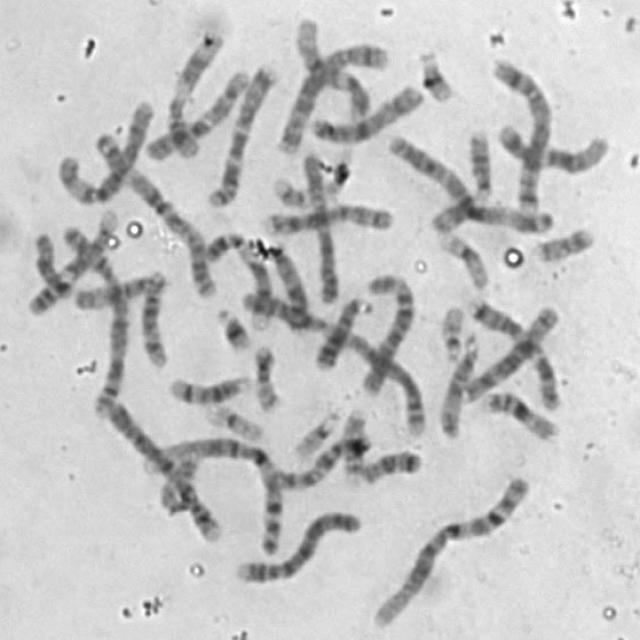A1: (365, 469, 536, 632), (146, 430, 286, 558)
A2: (234, 284, 431, 440), (56, 218, 131, 416)
A3: (90, 126, 220, 302), (382, 126, 556, 234)
B4: (101, 394, 228, 546), (232, 504, 366, 586)
B5: (270, 34, 390, 156), (486, 52, 556, 218)
C10: (140, 63, 252, 163), (264, 423, 371, 493)
C11: (159, 25, 227, 162), (424, 126, 494, 236)
C12: (290, 12, 373, 121), (492, 117, 610, 176)
C6: (51, 92, 156, 206), (358, 267, 418, 396)
C7: (459, 296, 563, 409), (202, 59, 280, 209)
C8: (458, 298, 562, 407), (257, 197, 396, 238)
C9: (24, 201, 123, 318), (200, 225, 278, 331)
D13: (309, 291, 375, 372), (261, 239, 313, 335)
D14: (135, 263, 172, 371), (162, 368, 256, 407)
D15: (434, 329, 482, 440), (68, 266, 170, 312)
E16: (478, 384, 562, 444), (335, 403, 370, 480)
E17: (264, 161, 360, 206), (158, 454, 219, 516)
E18: (29, 226, 74, 302), (356, 442, 425, 487)
F19: (432, 226, 491, 292), (201, 398, 267, 443)
F20: (529, 220, 598, 264), (250, 338, 285, 414)
G21: (413, 42, 457, 104), (212, 302, 254, 354)
G22: (288, 402, 344, 461), (435, 299, 467, 364)
X: (306, 78, 424, 145), (296, 145, 342, 305)
